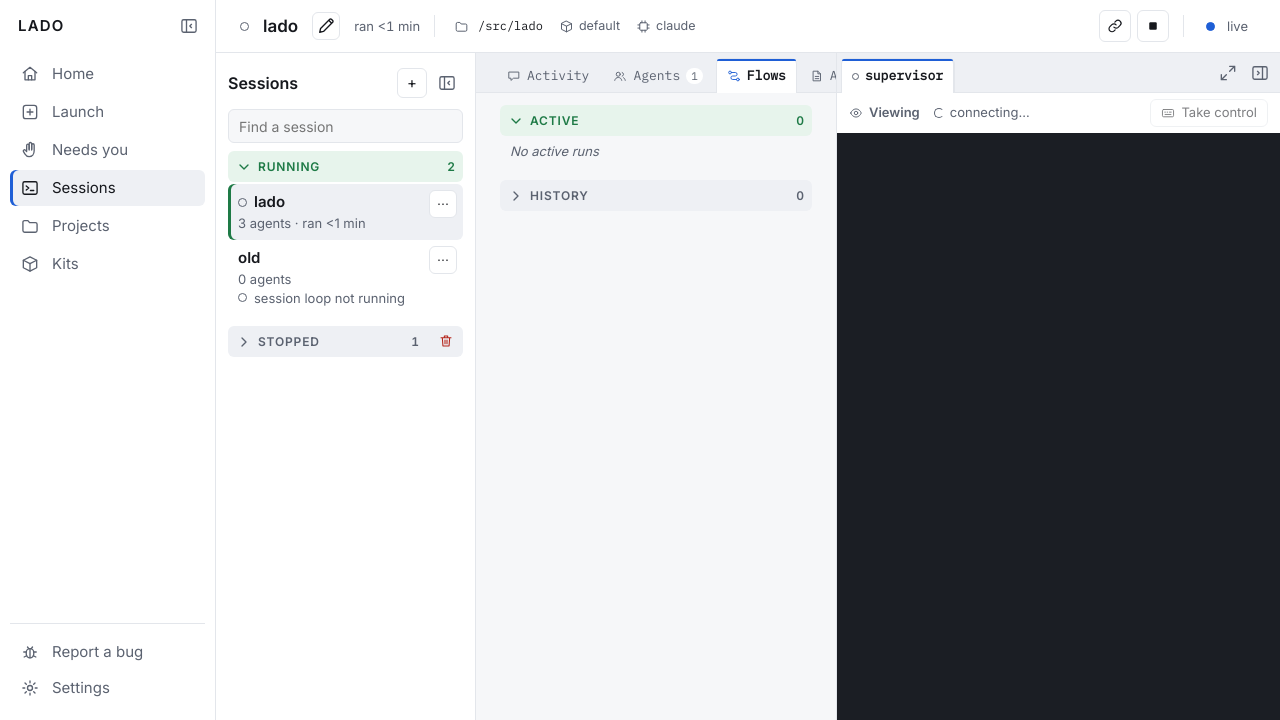
Scenario: /sessions/<name>/flows opens the Flows tab, and a tab changes the address
expect the text "No active runs" is shown: met, box [510, 143, 599, 159]
Click the link "Activity" at (548, 76), box [507, 67, 589, 84]
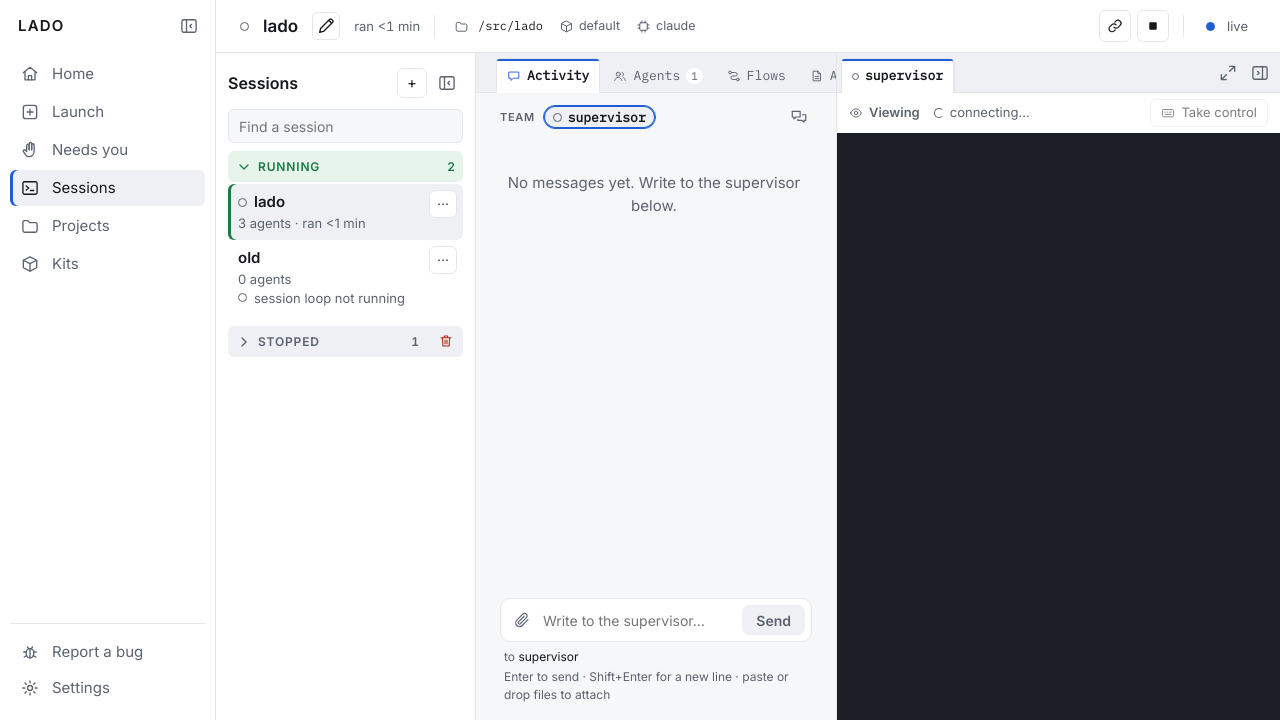
expect the element named "Chat" is shown: met, box [500, 140, 812, 704]
